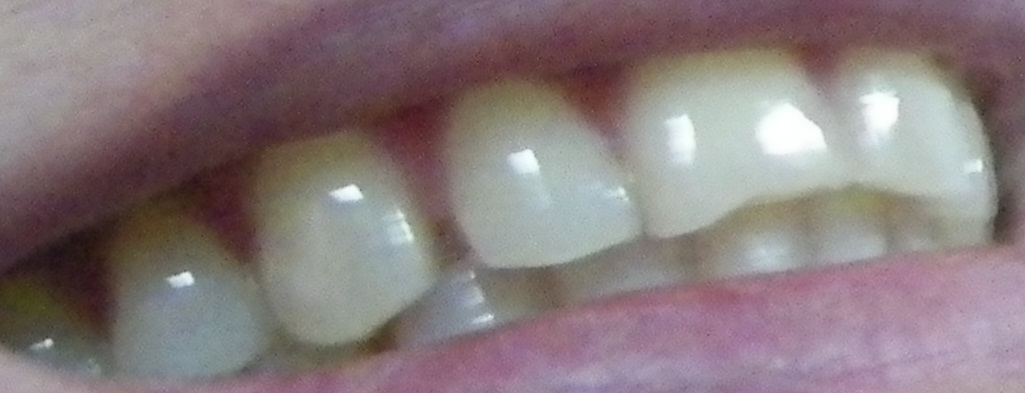boca: (1, 60, 1002, 371)
